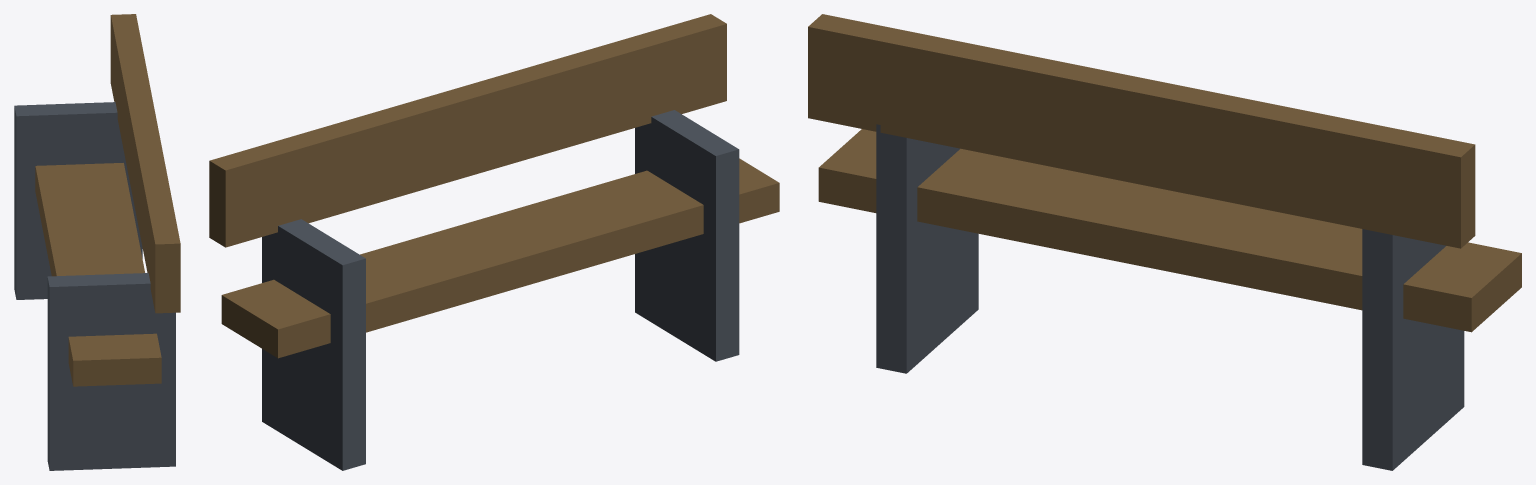
The model's file is cell--405_855.glb.
3 views of the same model, side by side, from view 1: azimuth 30°, elevation 25°; view 2: azimuth 150°, elevation 25°; view 3: azimuth 270°, elevation 25° (orthographic). The views are drawn at different scales.
Parts seen in each view (by area): view 1: cell--405_855; view 2: cell--405_855; view 3: cell--405_855.
Part boxes in pixels (x1,y1,x2,y2): cell--405_855: [14, 14, 180, 470]; cell--405_855: [209, 14, 779, 470]; cell--405_855: [808, 14, 1521, 470].
Bounding box in the file's own units: 0.5214 × 0.43 × 0.8501.
